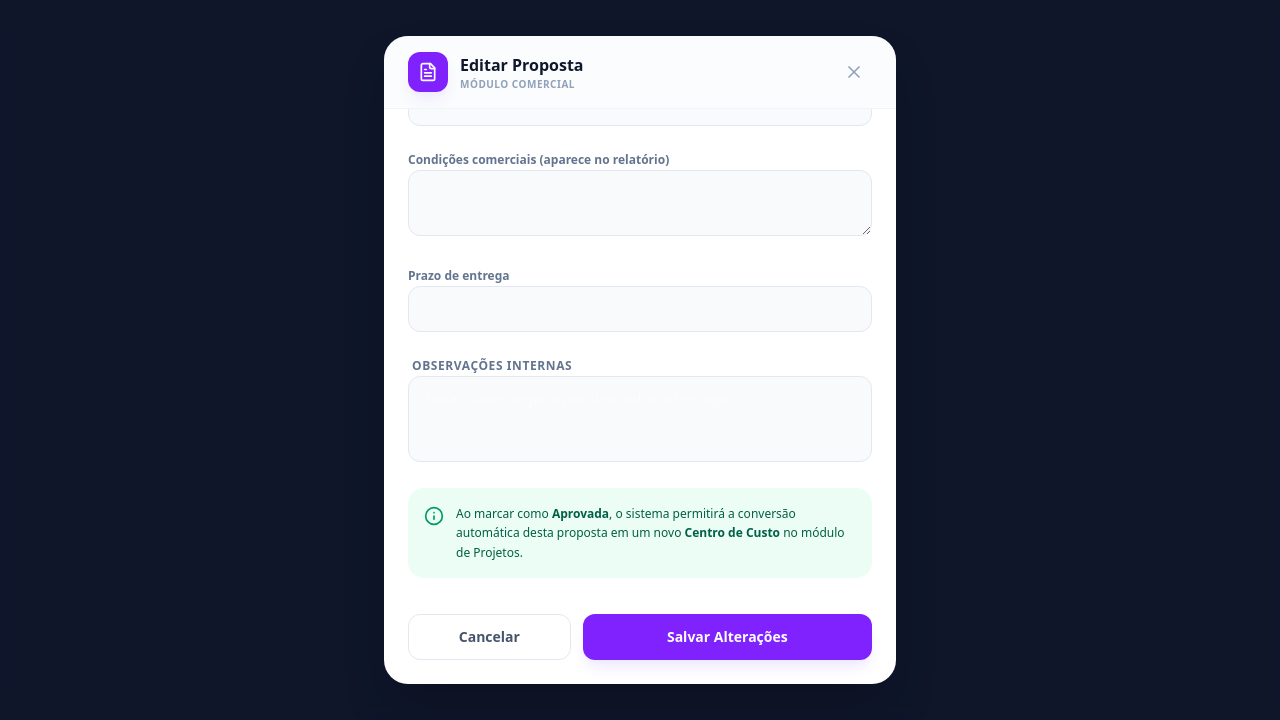
Test: failed proposal write keeps form and entered values
(page scrolled)
Step 1. Click the button "Salvar Alterações" → x=727, y=637, box left=583, top=614, right=872, bottom=660
(page scrolled)
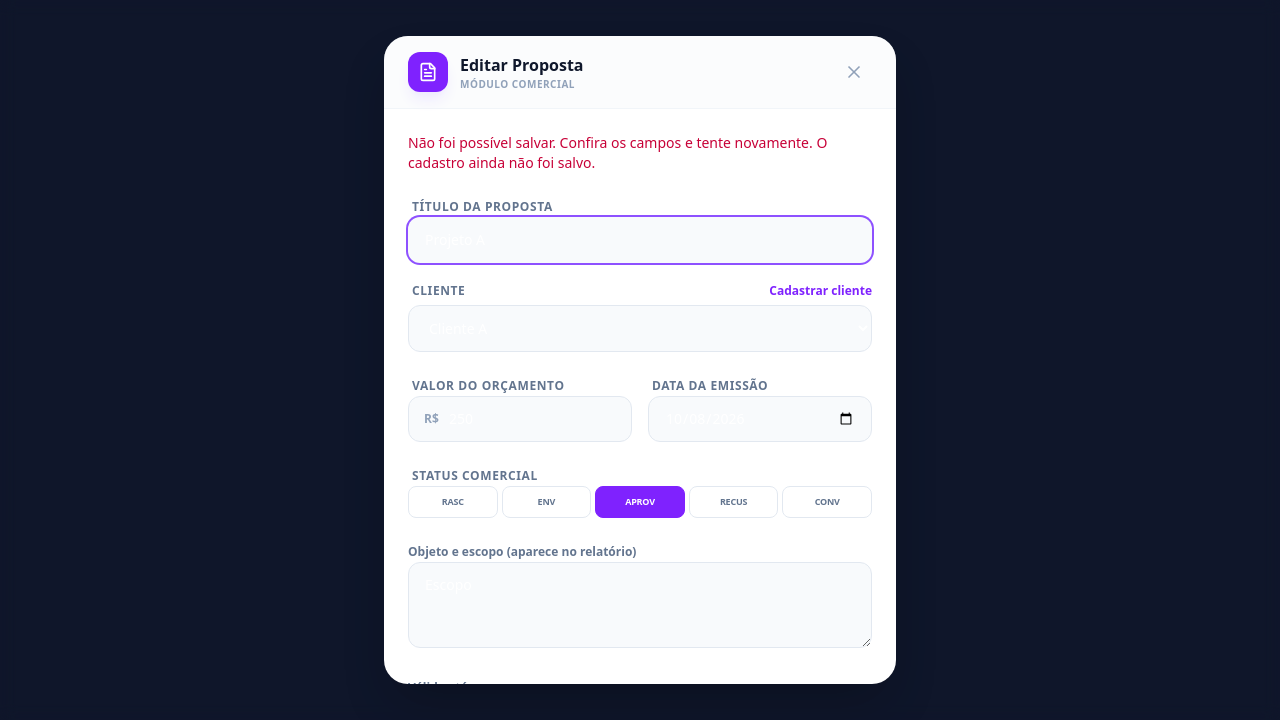
Expected: the message is shown, left=408, top=133, right=872, bottom=173
Expected: the field showing "Projeto A" is shown, left=408, top=217, right=872, bottom=263
